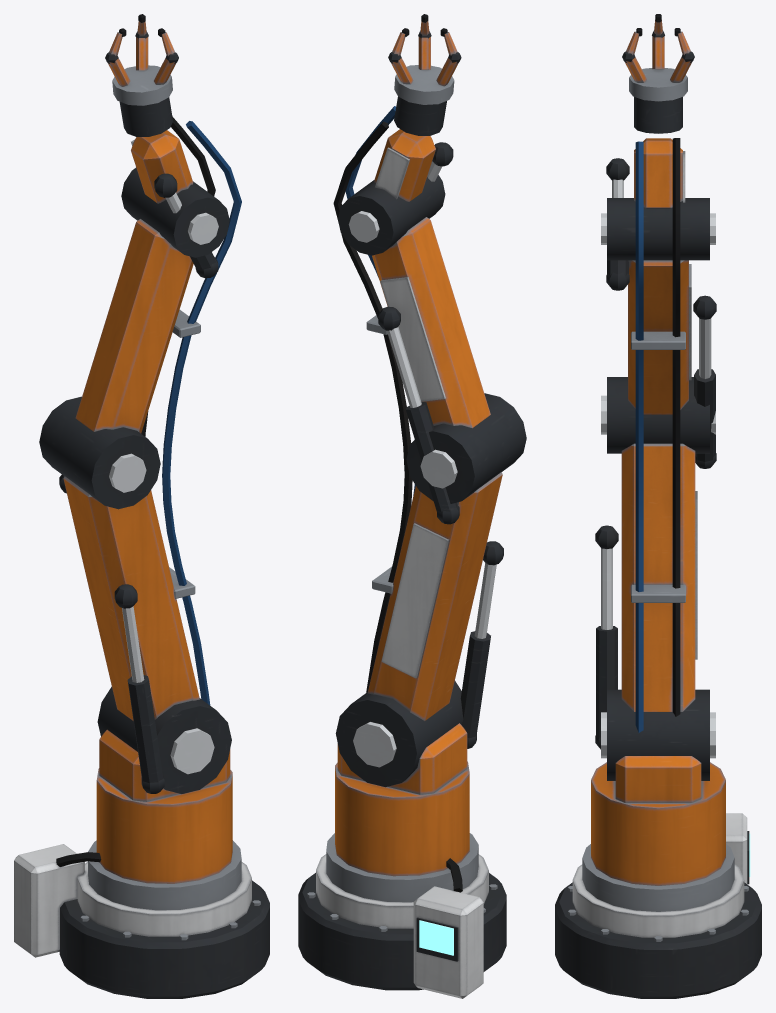
Rendered from brazo_mecanico_hangar.fbx.
3 renders of one model, left to right at view 1: azimuth 30°, elevation 25°; view 2: azimuth 150°, elevation 25°; view 3: azimuth 270°, elevation 25°, orthographic.
Parts seen in each view (by area): view 1: brazo_mecanico_hangar_giratoria, brazo_mecanico_hangar; view 2: brazo_mecanico_hangar_giratoria, brazo_mecanico_hangar, brazo_mecanico_hangar_pantalla_neon; view 3: brazo_mecanico_hangar_giratoria, brazo_mecanico_hangar.
Part boxes in pixels (x1,y1,x2,y2): brazo_mecanico_hangar_giratoria: (39, 14, 241, 883); brazo_mecanico_hangar: (14, 840, 269, 998); brazo_mecanico_hangar_giratoria: (333, 14, 526, 876); brazo_mecanico_hangar: (298, 833, 506, 998); brazo_mecanico_hangar_pantalla_neon: (419, 920, 453, 955); brazo_mecanico_hangar_giratoria: (591, 14, 725, 885); brazo_mecanico_hangar: (555, 813, 761, 998).
Bounding box in the file's own units: 1.84 × 8.3 × 1.69.
Materials: 2 (1 with a texture image).
